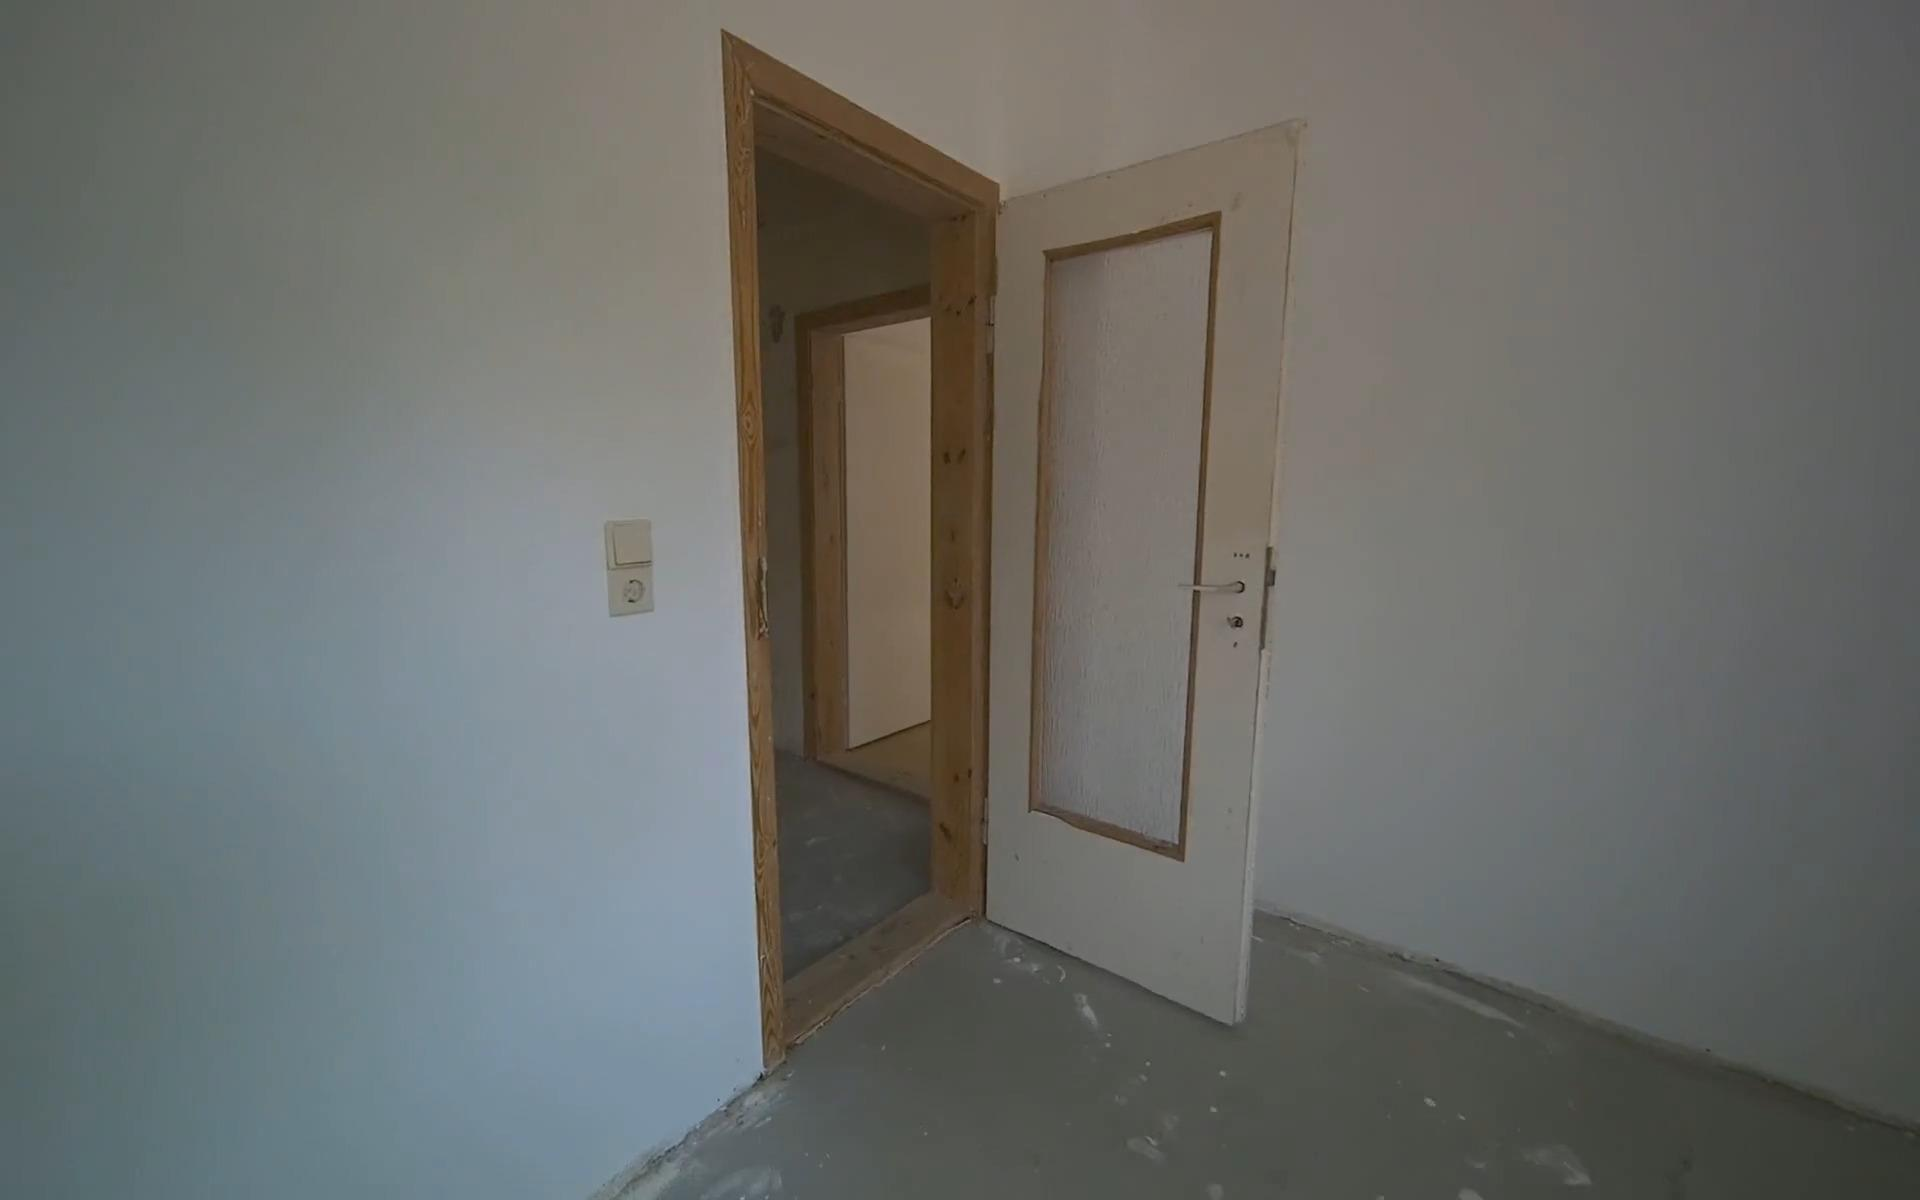doors: (718, 23, 1308, 1078), (798, 280, 978, 813)
